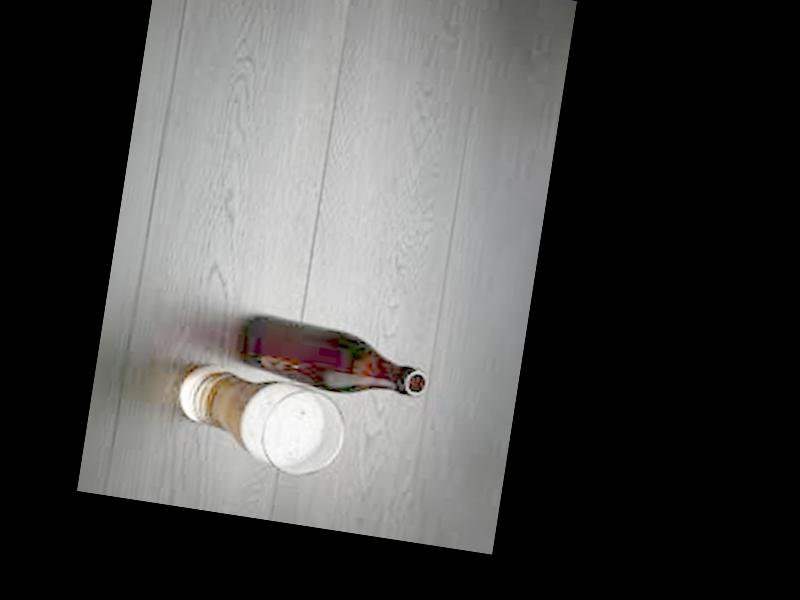Beer: (226, 309, 436, 408)
